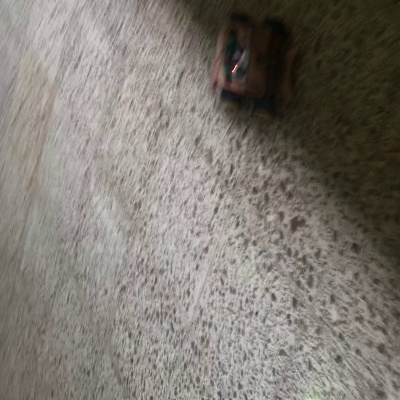Robot: (215, 18, 301, 119)
